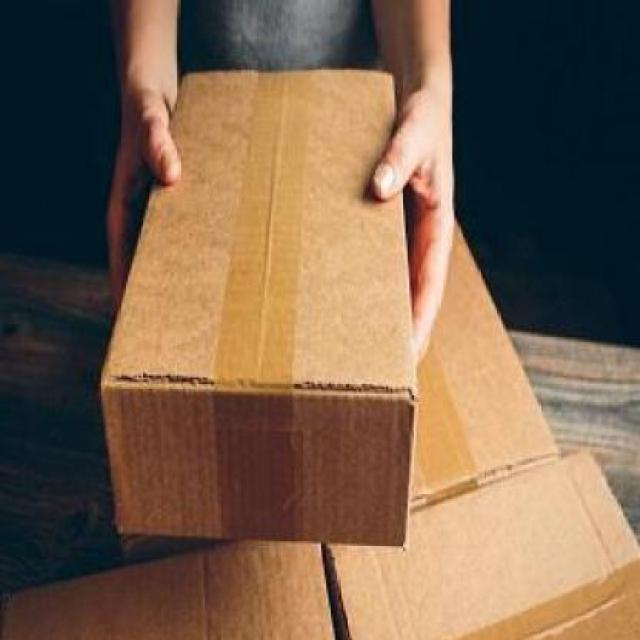box: (90, 58, 453, 559), (378, 174, 571, 536), (332, 462, 637, 640), (2, 523, 350, 640)
